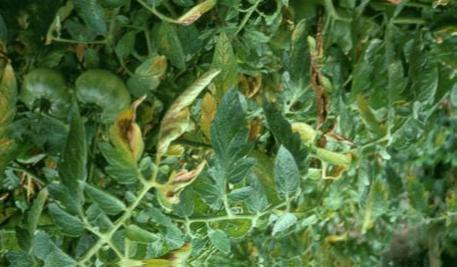Tomato Early blight leaf: (153, 73, 223, 165), (108, 100, 147, 190), (156, 164, 214, 211), (15, 189, 50, 261), (0, 40, 20, 160), (120, 244, 199, 267)
Tomato leaf: (52, 110, 90, 213), (210, 93, 249, 188), (275, 147, 298, 203)
